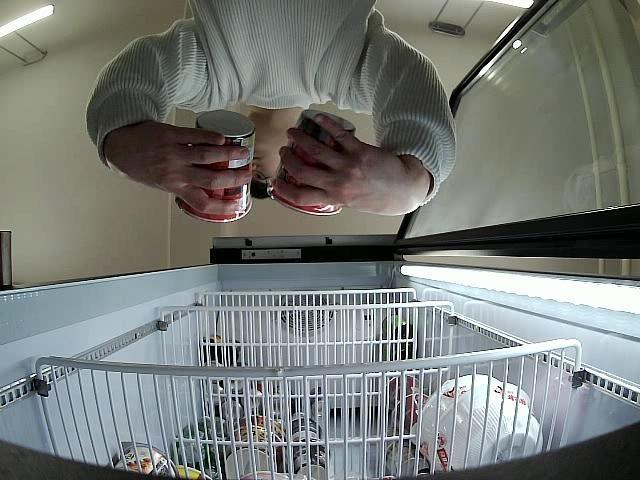02_shinRamen_S: (266, 108, 357, 216), (174, 108, 254, 222)
